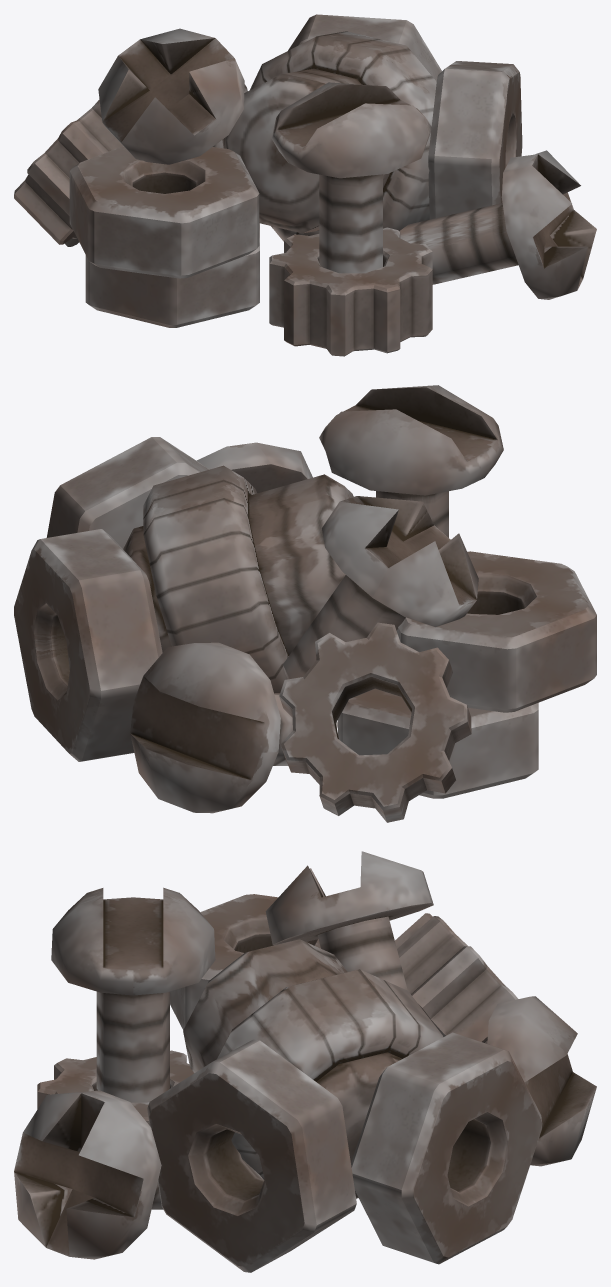
The model's file is sm_mechanical_parts_01.fbx.
3 renders of one model, top to bottom at view 1: azimuth 30°, elevation 25°; view 2: azimuth 150°, elevation 25°; view 3: azimuth 270°, elevation 25°, orthographic. The views are drawn at different scales.
Visible parts, largest first — view 1: sm_mechanical_parts_01; view 2: sm_mechanical_parts_01; view 3: sm_mechanical_parts_01.
Part boxes in pixels (box(x1,y1,x2,y2)): sm_mechanical_parts_01: box(14, 14, 596, 356); sm_mechanical_parts_01: box(14, 385, 596, 822); sm_mechanical_parts_01: box(14, 851, 596, 1272).
Bounding box in the file's own units: 23.09 × 11.21 × 22.38.
1 material, 1 textured.
